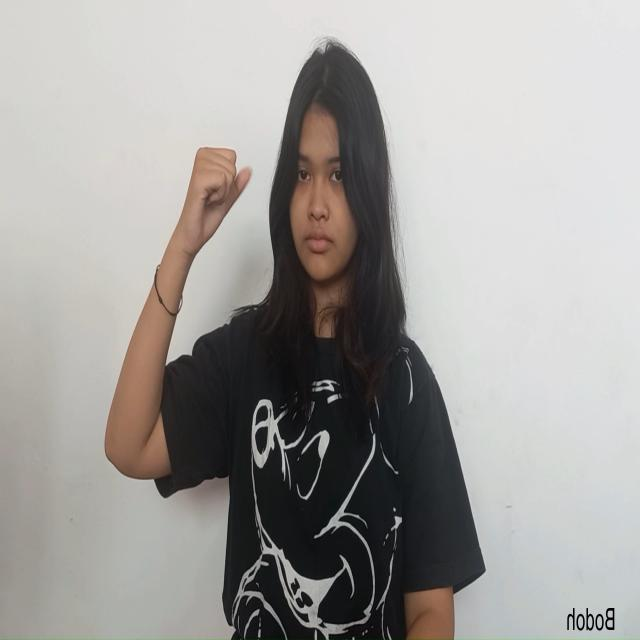Bodoh -BISINDO-: (174, 139, 255, 258)
